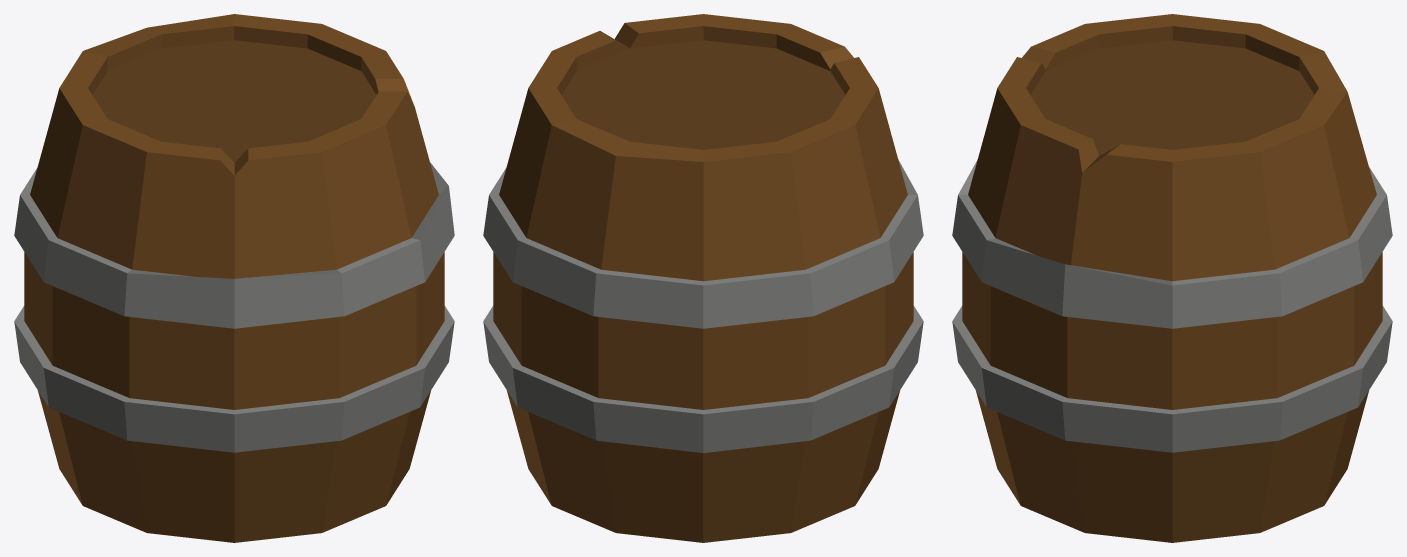
Rendered from Barrel.glb.
3 views of the same model, side by side, from view 1: azimuth 30°, elevation 25°; view 2: azimuth 150°, elevation 25°; view 3: azimuth 270°, elevation 25° (orthographic).
Visible parts, largest first — view 1: Cylinder; view 2: Cylinder; view 3: Cylinder.
Boxes of the visible parts, x1=… form: Cylinder: x1=14, y1=14, x2=454, y2=542; Cylinder: x1=483, y1=14, x2=923, y2=542; Cylinder: x1=952, y1=14, x2=1392, y2=542.
Bounding box in the file's own units: 1.26 × 1.2 × 1.26.
